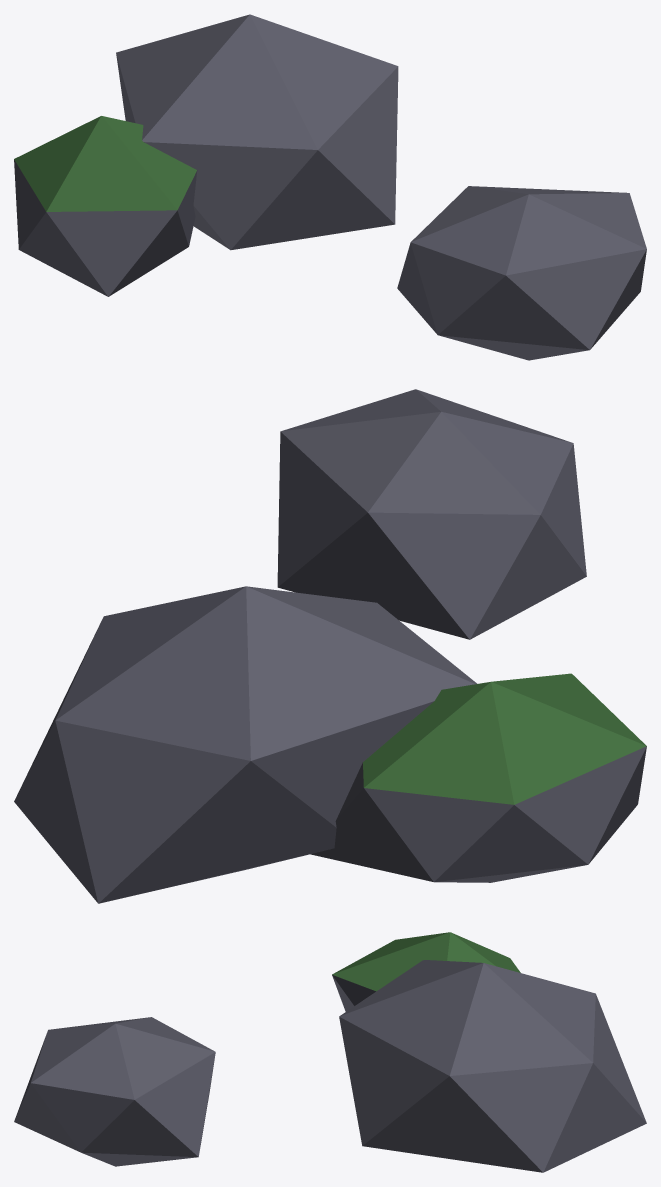
The model's file is kit_scatter_stones.glb.
The picture shows the model from 3 angles, top to bottom: view 1: azimuth 30°, elevation 25°; view 2: azimuth 150°, elevation 25°; view 3: azimuth 270°, elevation 25°; orthographic projection. The views are drawn at different scales.
Visible parts, largest first — view 1: kit_scatter_stones; view 2: kit_scatter_stones; view 3: kit_scatter_stones.
Part boxes in pixels (left/top/right/bottom): kit_scatter_stones: left=14, top=14, right=646, bottom=360; kit_scatter_stones: left=14, top=389, right=646, bottom=903; kit_scatter_stones: left=14, top=932, right=646, bottom=1172.
Size of the model in its own units: 0.2758 by 0.1323 by 0.407.
